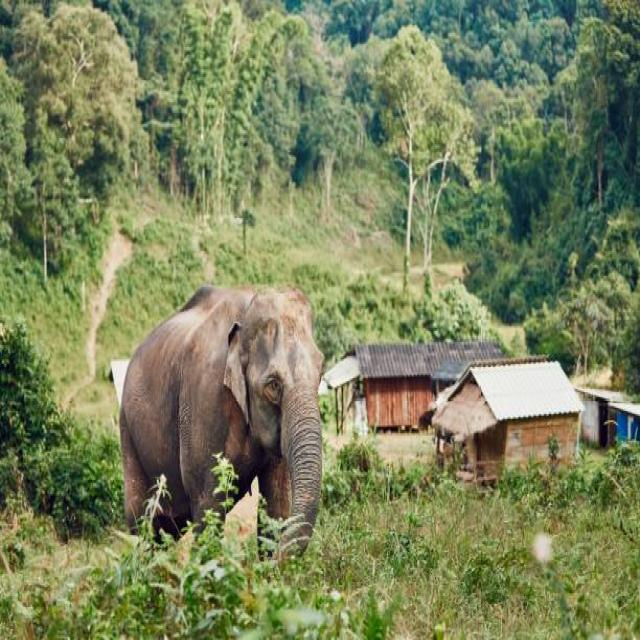Elephant: (110, 283, 332, 562)
